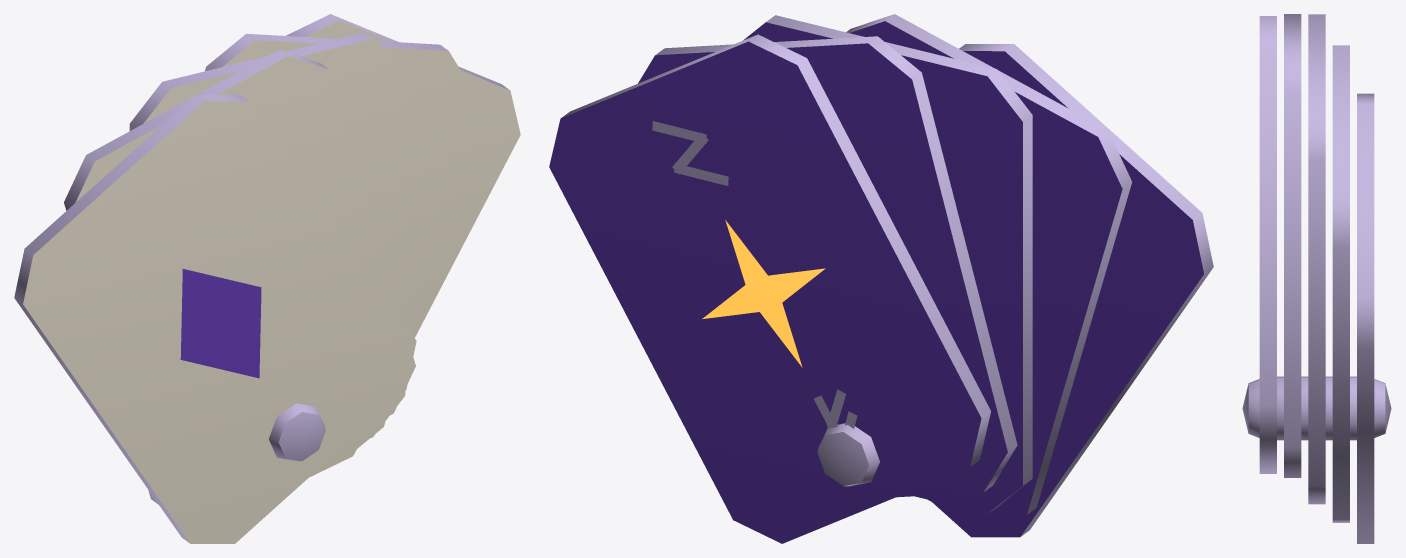
File: trick-deck-3.glb
3 renders of one model, left to right at view 1: azimuth 30°, elevation 25°; view 2: azimuth 150°, elevation 25°; view 3: azimuth 270°, elevation 25°, orthographic. The views are drawn at different scales.
Parts seen in each view (by area): view 1: trick-deck-3; view 2: trick-deck-3; view 3: trick-deck-3.
Part boxes in pixels (bbox=[...]): trick-deck-3: bbox=[14, 14, 520, 543]; trick-deck-3: bbox=[549, 14, 1213, 543]; trick-deck-3: bbox=[1242, 14, 1391, 543].
Bounding box in the file's own units: 0.1436 × 0.1161 × 0.0344.
